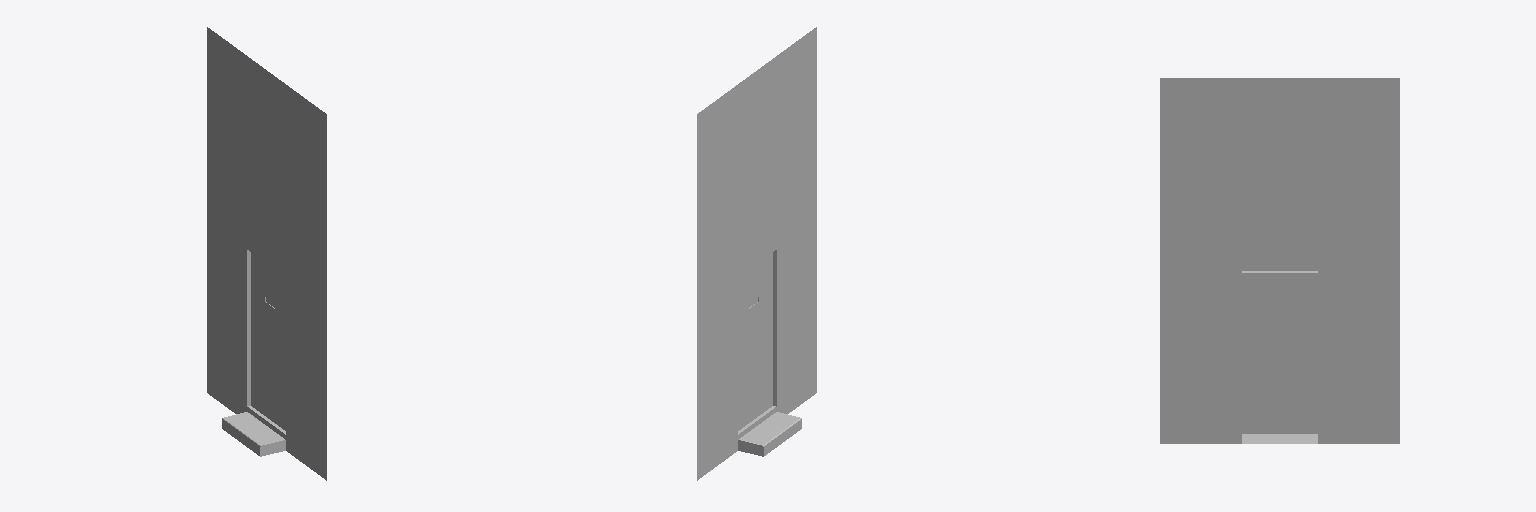
The model's file is DoorWall.obj.
3 views of the same model, side by side, from view 1: azimuth 30°, elevation 25°; view 2: azimuth 150°, elevation 25°; view 3: azimuth 270°, elevation 25° (orthographic).
Visible parts, largest first — view 1: Cube.001_Cube.009; view 2: Cube.001_Cube.009; view 3: Cube.001_Cube.009.
Boxes of the visible parts, <box> form: Cube.001_Cube.009: <box>207,27,326,480</box>; Cube.001_Cube.009: <box>697,27,816,480</box>; Cube.001_Cube.009: <box>1160,78,1399,443</box>.
Size of the model in its own units: 0.2216 by 2.62 by 1.56.